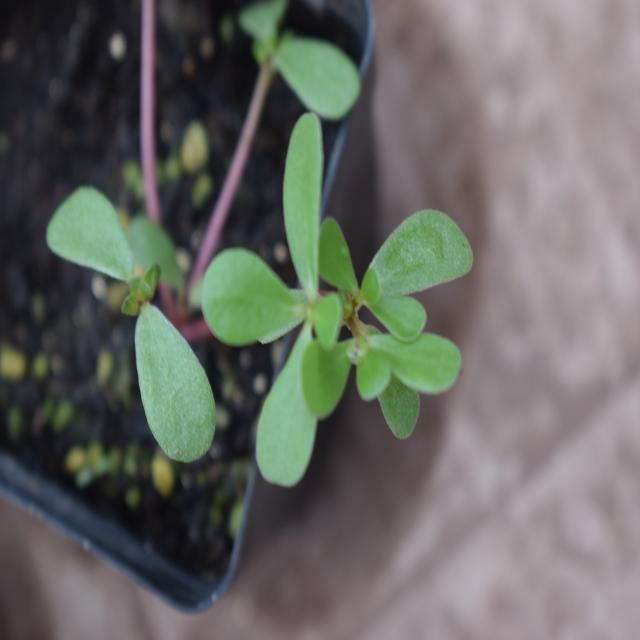purslane: (38, 152, 540, 516)
